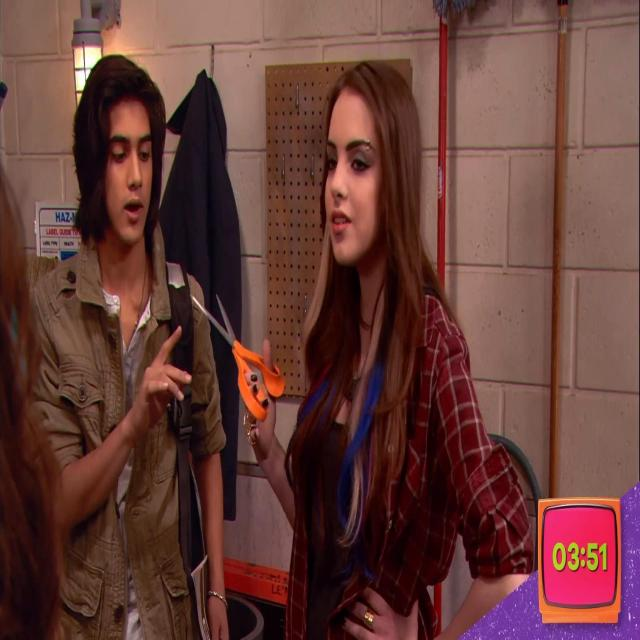scissor: (192, 294, 285, 422)
